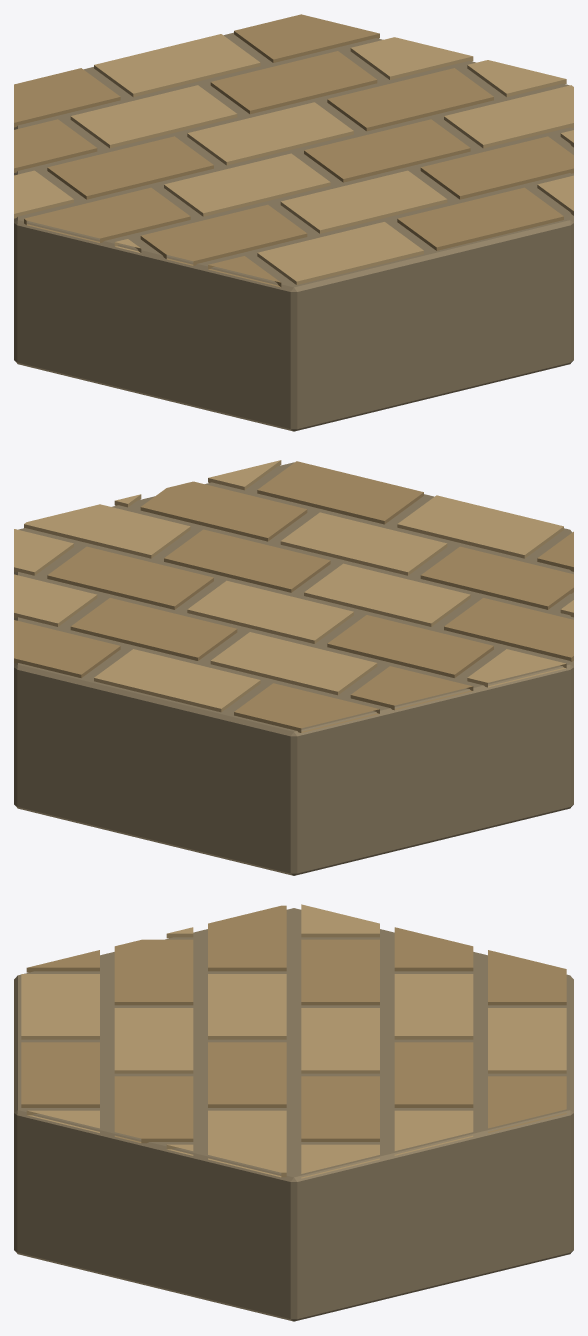
The model's file is tijolo-hex.glb.
The picture shows the model from 3 angles, top to bottom: view 1: azimuth 30°, elevation 25°; view 2: azimuth 150°, elevation 25°; view 3: azimuth 270°, elevation 25°; orthographic projection.
Visible parts, largest first — view 1: TijoloHex; view 2: TijoloHex; view 3: TijoloHex.
Part boxes in pixels (x1,y1,x2,y2): TijoloHex: (14,14,573,431); TijoloHex: (14,460,573,875); TijoloHex: (14,904,573,1321).
Bounding box in the file's own units: 1.99 × 0.504 × 1.73.
